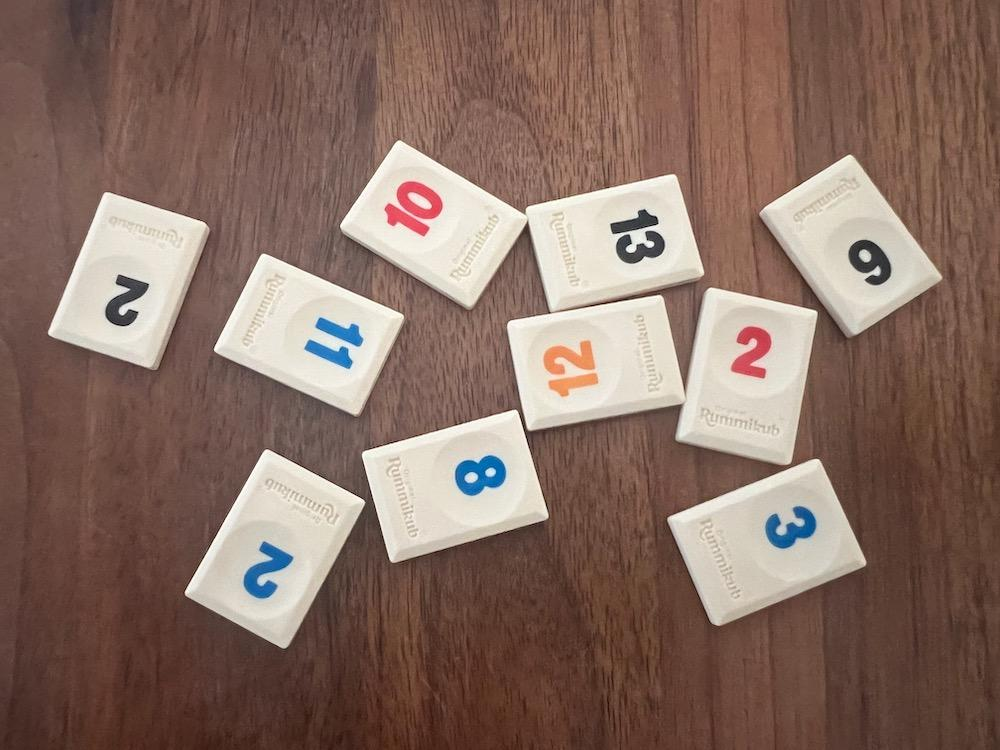black_13: (528, 174, 703, 311)
black_2: (50, 193, 209, 369)
black_6: (760, 154, 941, 336)
blue_11: (215, 254, 404, 414)
blue_2: (186, 451, 365, 648)
blue_3: (668, 459, 865, 625)
blue_8: (364, 410, 549, 562)
orange_12: (508, 297, 686, 430)
red_10: (342, 141, 527, 309)
red_2: (676, 289, 816, 465)
